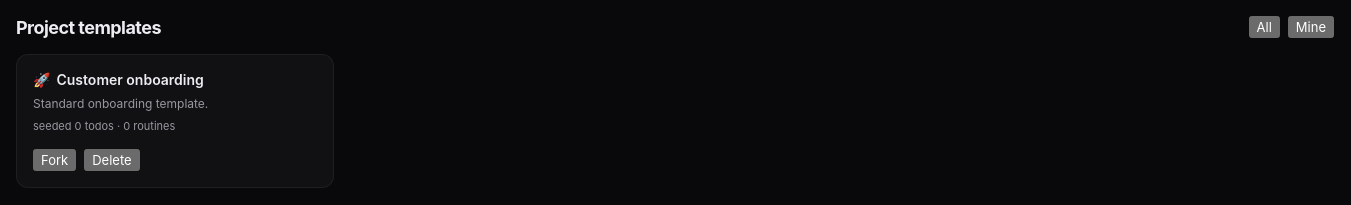
Test: TemplateGalleryRoute mutations › deletes a template and removes the row from the local list
Click the button with test id "template-gallery-route-delete" at coordinates (112, 160), box x1=84 y1=149 x2=140 y2=171
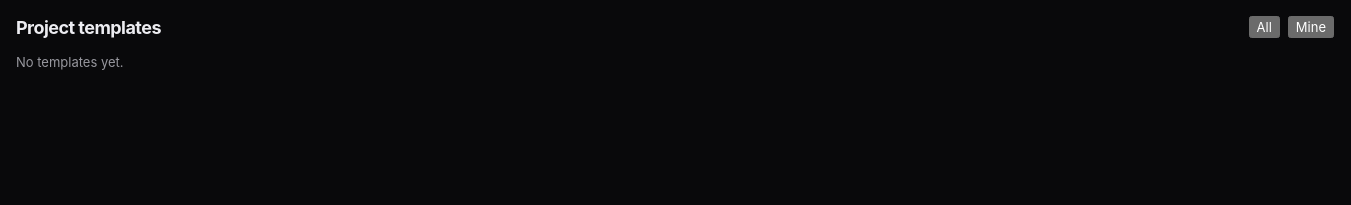
Expected: the text "No templates yet." is shown, x1=16 y1=54 x2=124 y2=70
